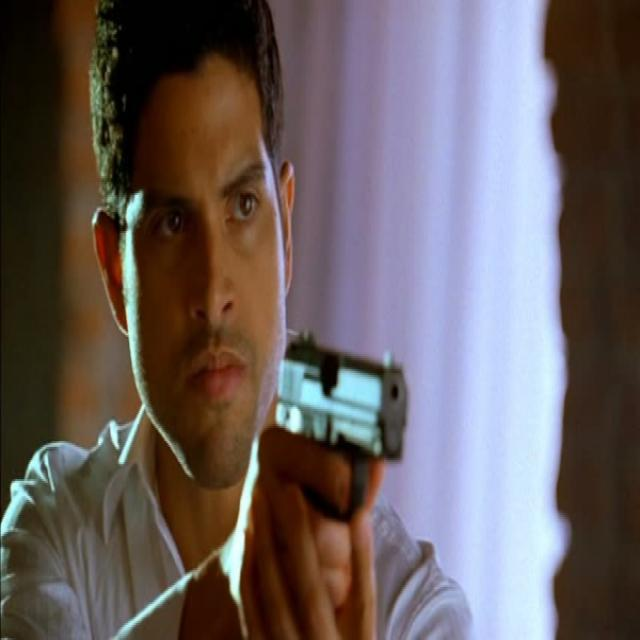weapons: (253, 300, 415, 618)
